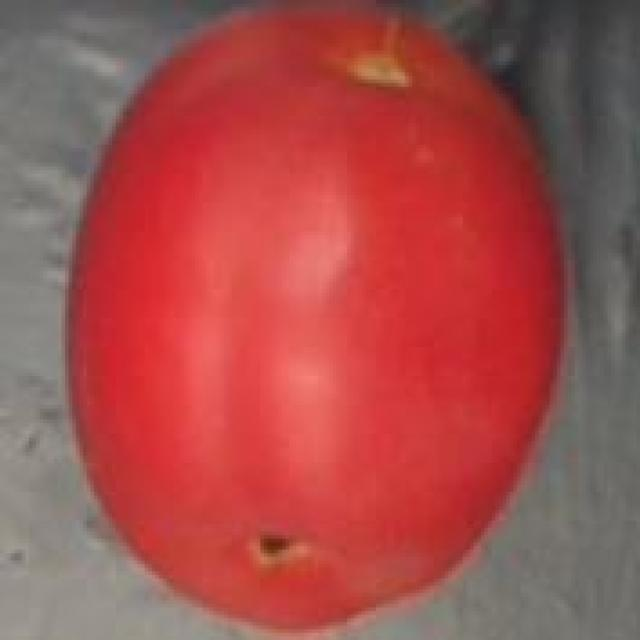overripe tomato: (51, 0, 571, 640)
